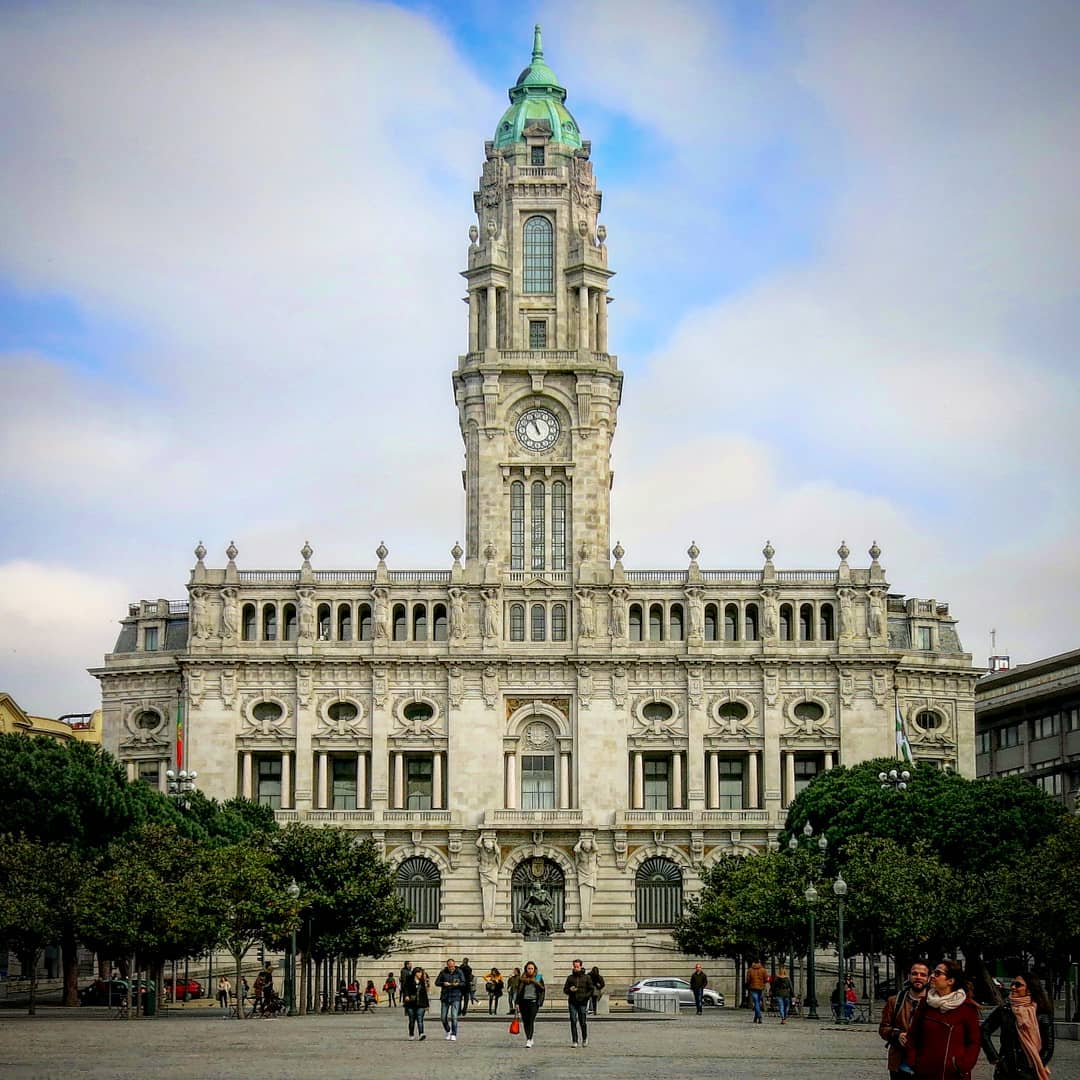camara: (86, 24, 989, 983)
